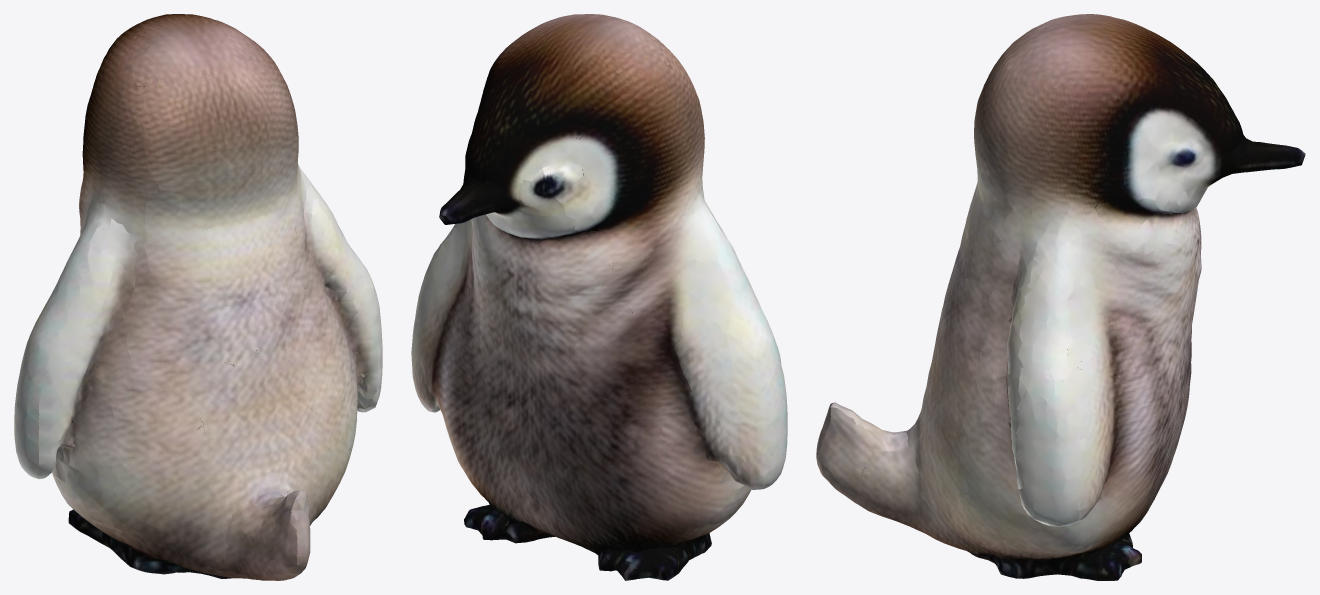
3 renders of one model, left to right at view 1: azimuth 30°, elevation 25°; view 2: azimuth 150°, elevation 25°; view 3: azimuth 270°, elevation 25°, orthographic. The views are drawn at different scales.
Visible parts, largest first — view 1: world; view 2: world; view 3: world.
Part boxes in pixels (x1,y1,x2,y2): world: (14,14,382,580); world: (411,14,787,580); world: (816,14,1305,580).
Size of the model in its own units: 0.7222 by 0.9989 by 0.8428.
Materials: 1 (1 with a texture image).
